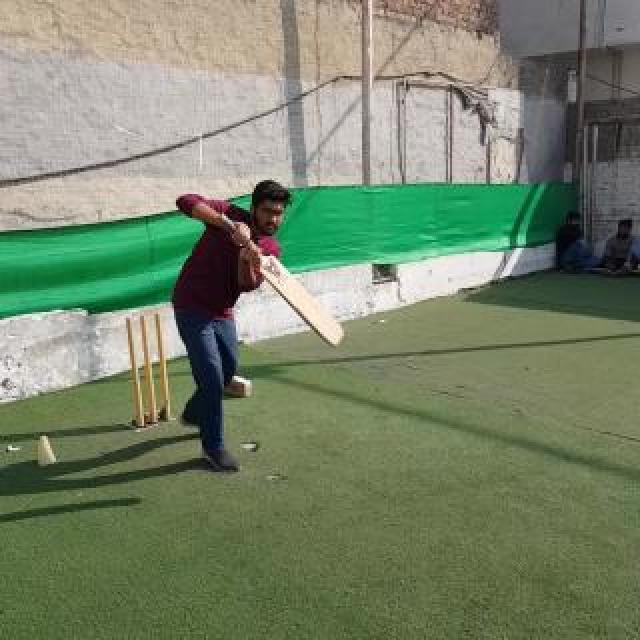bat: (218, 214, 344, 348)
